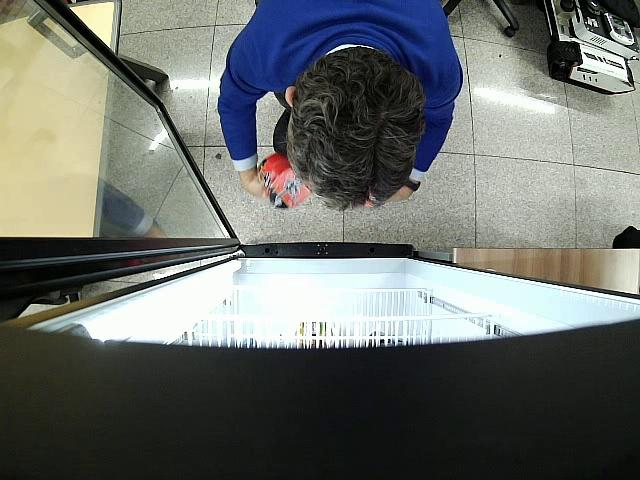01_shinRamen_L: (256, 153, 313, 208)
